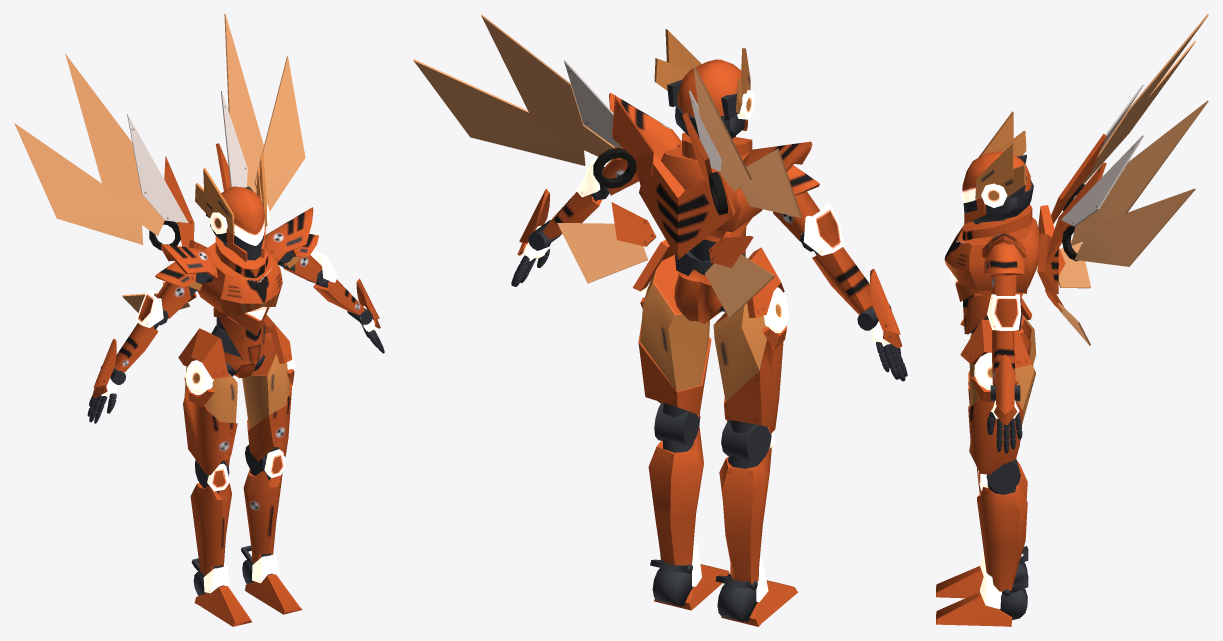
File: Female_3.glb
3 renders of one model, left to right at view 1: azimuth 30°, elevation 25°; view 2: azimuth 150°, elevation 25°; view 3: azimuth 270°, elevation 25°, orthographic. The views are drawn at different scales.
Parts seen in each view (by area): view 1: W1, WW2, WW1, GNG, BR1, GV2, GV1, NT, BR2, GV1.1, ARM1; view 2: W1, WW2, WW1, GNG, GV2, BR1, GV1, ARM1, BR2; view 3: W1, WW2, WW1, GNG, BR2, NT, GV2.2, ARM2, GV2.
Boxes of the visible parts, x1,y1,x2,y2 form: W1: [87, 154, 384, 626]; WW2: [14, 14, 305, 312]; WW1: [127, 91, 247, 301]; GNG: [197, 242, 282, 320]; BR1: [178, 328, 228, 378]; GV2: [265, 207, 313, 262]; GV1: [161, 244, 217, 279]; NT: [215, 236, 268, 278]; BR2: [263, 314, 292, 363]; GV1.1: [155, 262, 196, 287]; ARM1: [93, 338, 116, 387]; W1: [511, 29, 907, 626]; WW2: [413, 14, 801, 318]; WW1: [564, 59, 753, 267]; GNG: [661, 146, 762, 238]; GV2: [609, 92, 681, 160]; BR1: [747, 247, 784, 317]; GV1: [739, 141, 812, 188]; ARM1: [870, 268, 900, 334]; BR2: [632, 240, 674, 291]; W1: [936, 111, 1036, 626]; WW2: [1058, 14, 1208, 345]; WW1: [1037, 84, 1143, 311]; GNG: [944, 217, 1039, 293]; BR2: [960, 319, 1032, 367]; NT: [962, 204, 1032, 240]; GV2.2: [984, 244, 1024, 275]; ARM2: [996, 354, 1014, 414]; GV2: [982, 231, 1026, 257].
Size of the model in its own units: 3.6 by 5.8 by 2.62.
2 materials, 2 textured.
